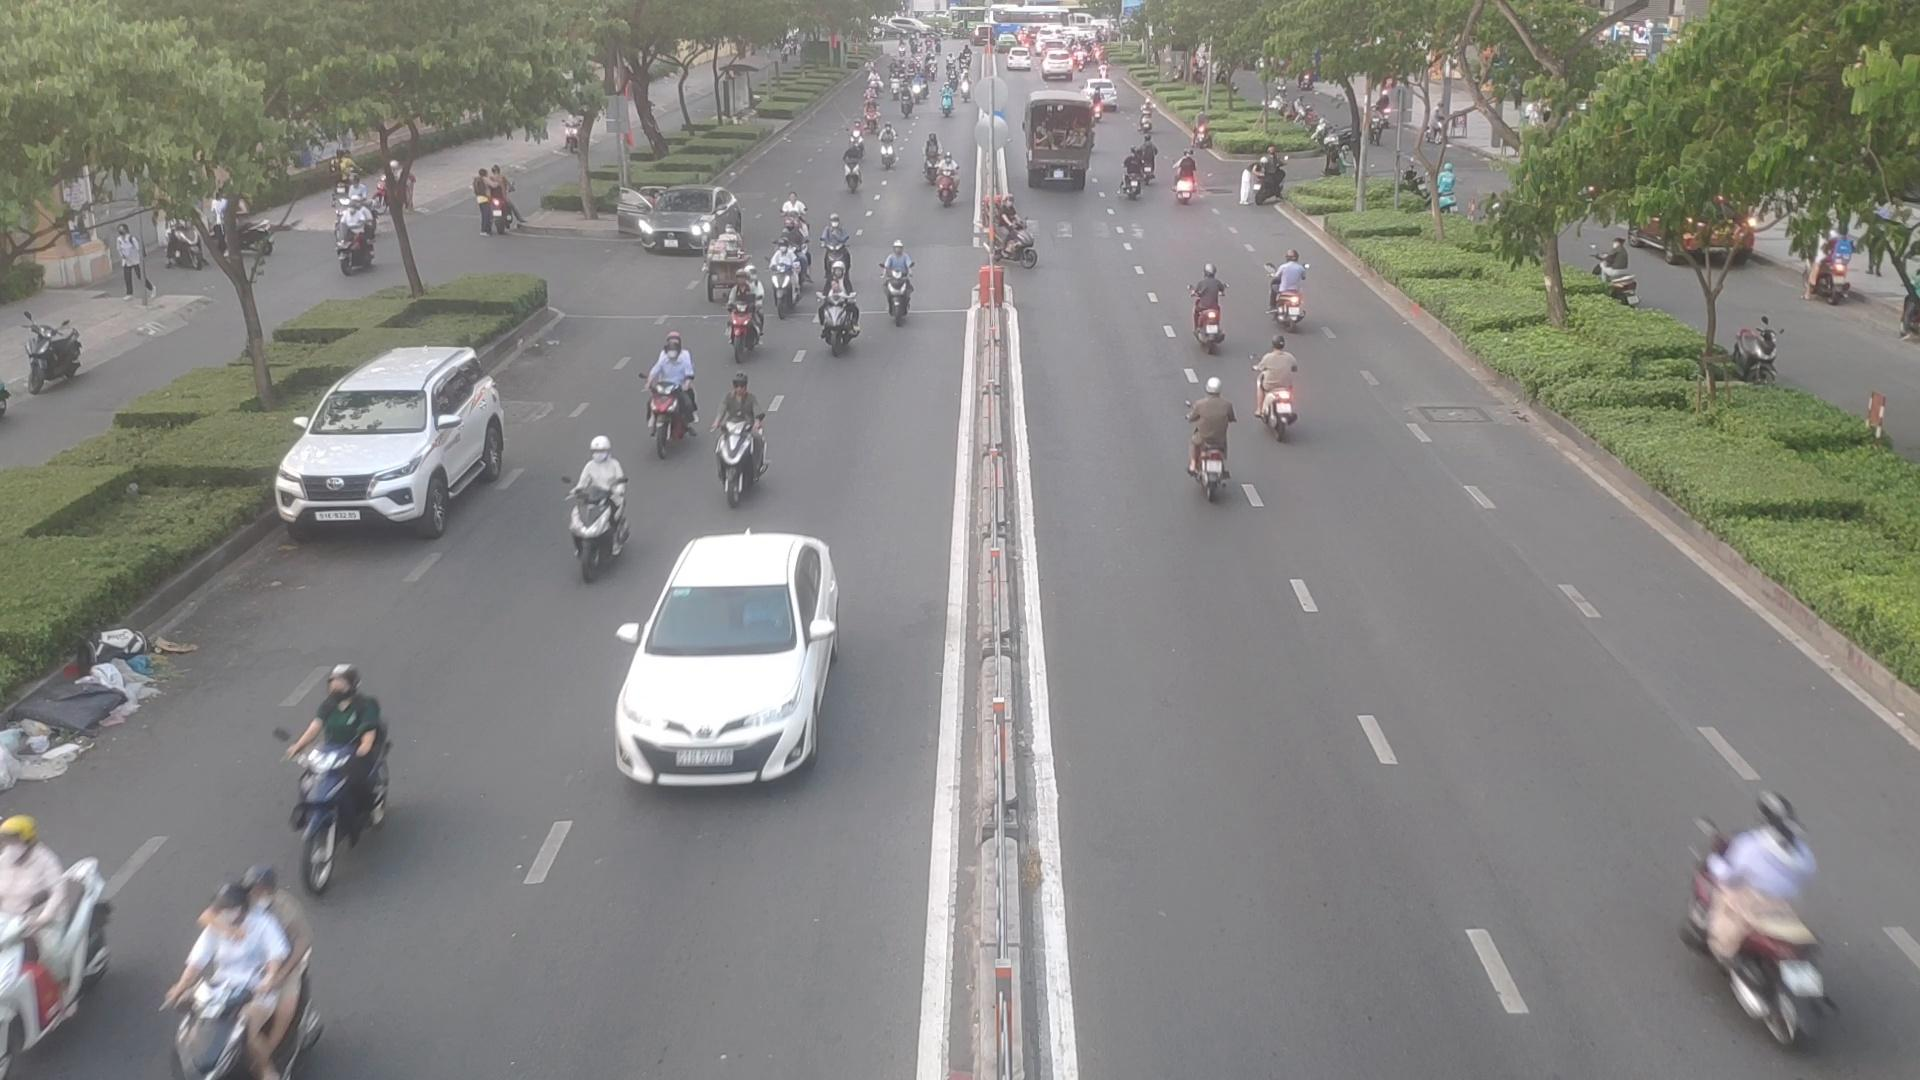car: (607, 535, 847, 789), (272, 345, 512, 535), (618, 187, 736, 255)
motorbike: (1687, 781, 1844, 1054), (170, 864, 316, 1080), (0, 824, 117, 1046), (291, 663, 386, 858), (696, 375, 773, 493), (564, 477, 632, 574), (644, 324, 690, 460), (1183, 377, 1234, 491), (986, 193, 1040, 270), (1261, 342, 1302, 440), (1189, 251, 1222, 361), (727, 264, 764, 353), (820, 261, 855, 340), (767, 240, 803, 306), (886, 239, 911, 316), (1276, 260, 1304, 327), (1174, 153, 1200, 214), (1124, 142, 1147, 196), (822, 216, 851, 260), (938, 154, 961, 207), (841, 140, 864, 191)
